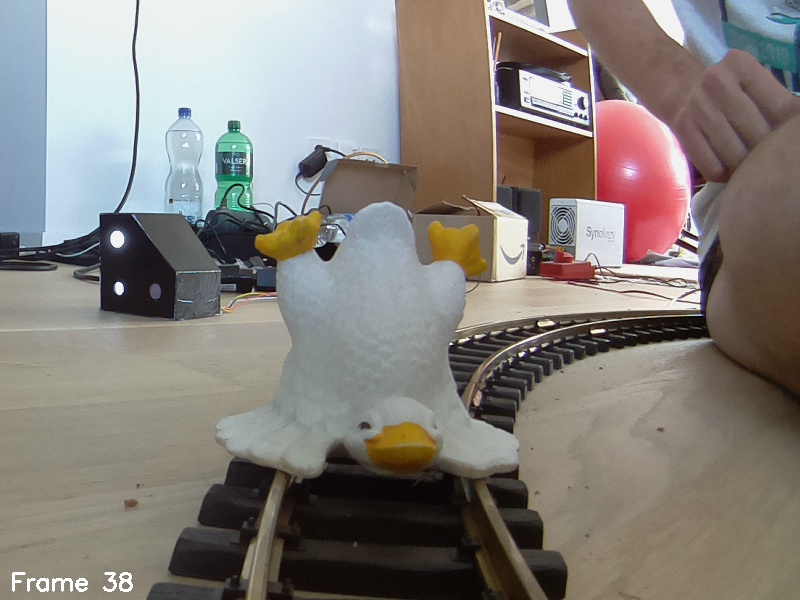Ente: (202, 206, 530, 493)
Fahrt: (98, 210, 221, 322)
